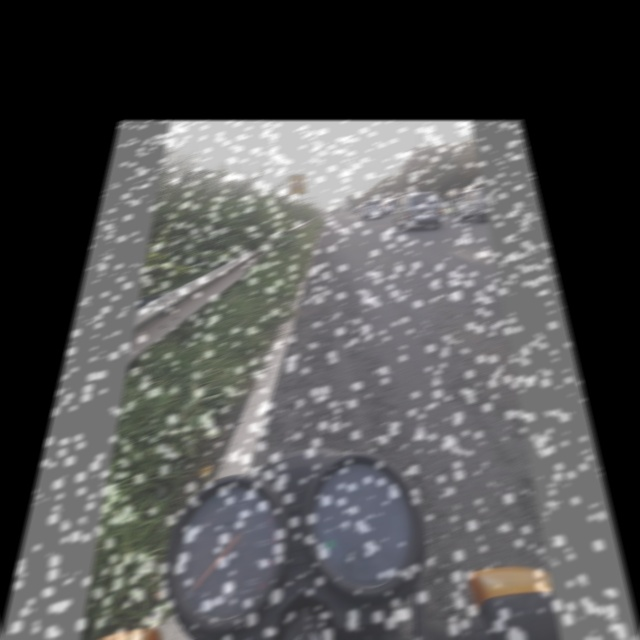Narrow_Bridge: (288, 174, 305, 191)
